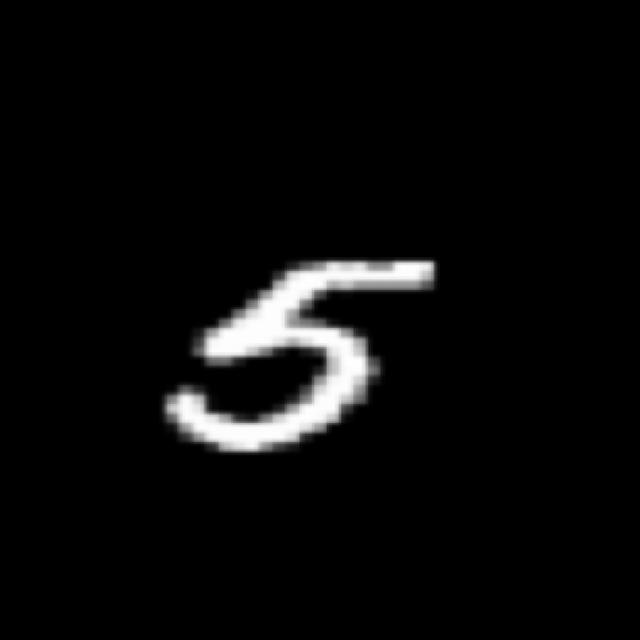five -5-: (144, 250, 449, 460)
